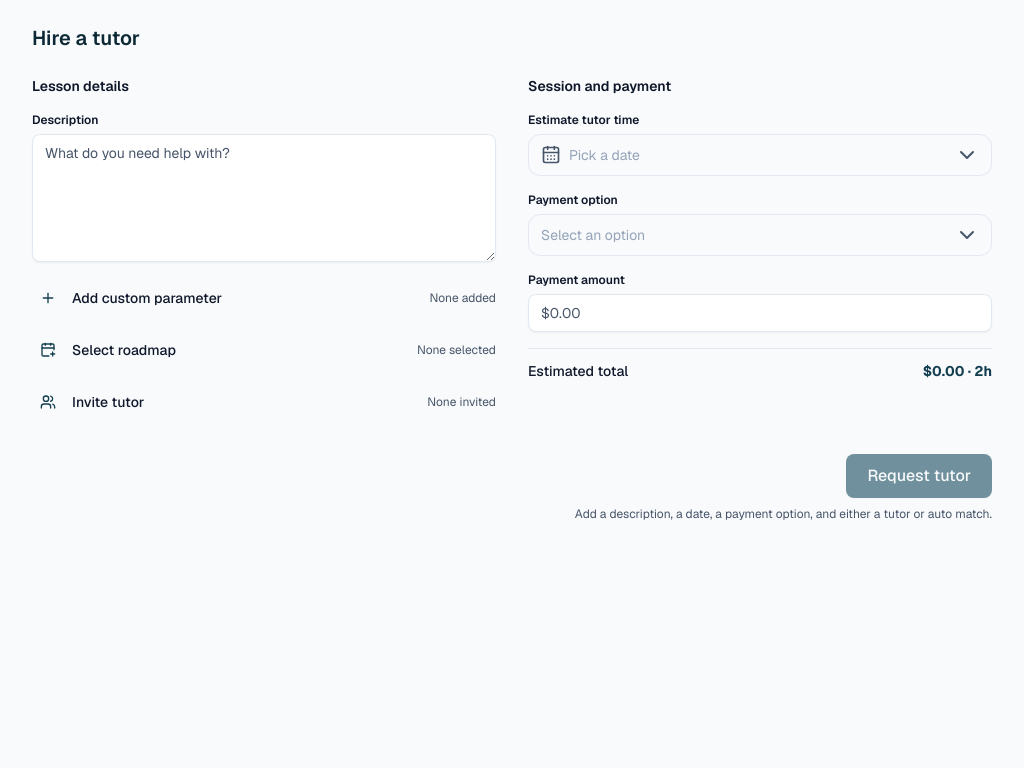
Test: HireTutorForm › opens the custom parameters dialog from its row
The image size is (1024, 768).
Click the button "Add custom parameter": (127, 298) [32,278,222,318]
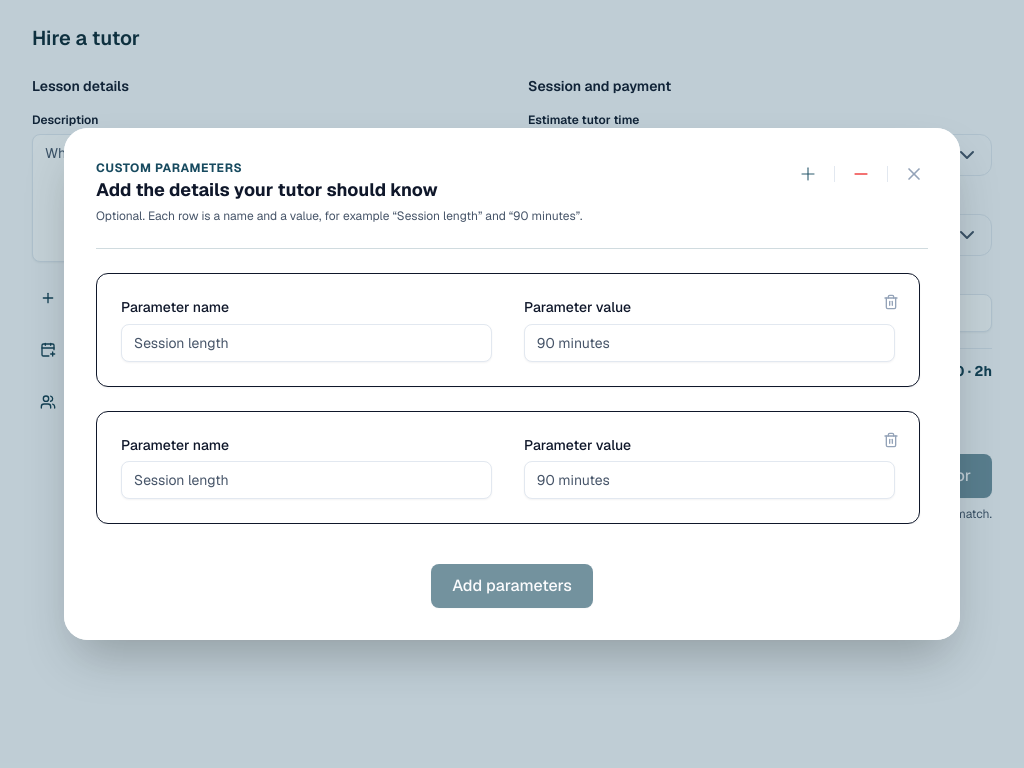
Now the dialog "Custom parameters" is shown, box [64,128,960,640]
